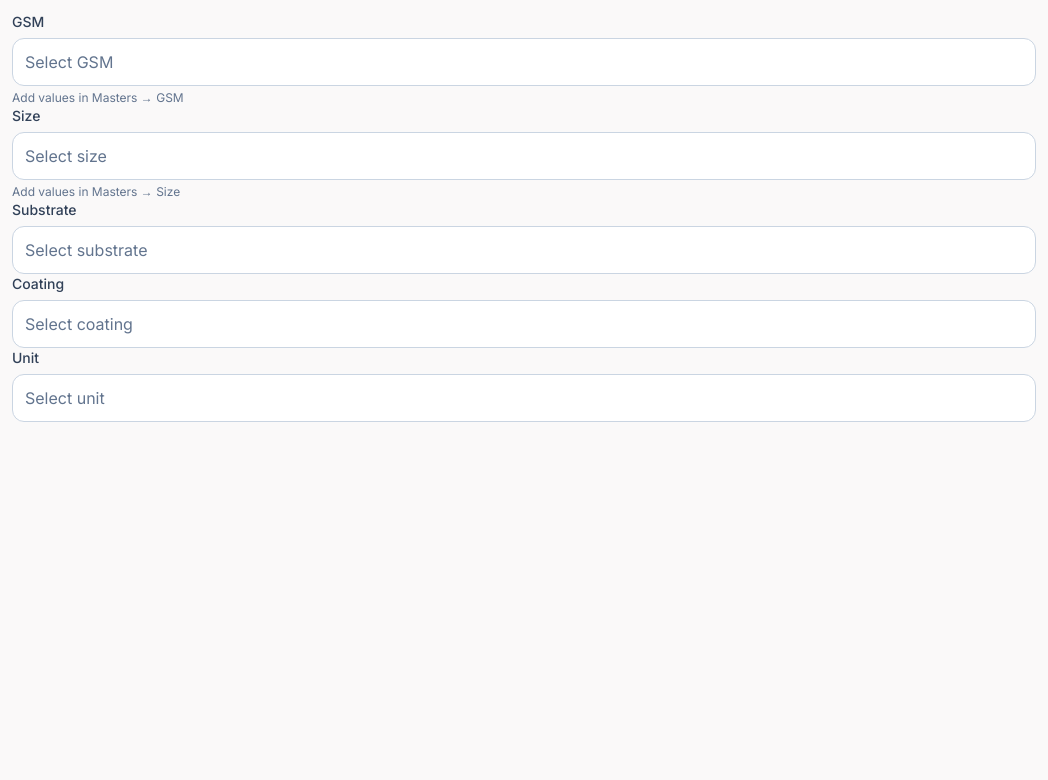
Scenario: R3-MST B32 GSM / Size / Unit are dropdowns › with no master options the unit dropdown offers the 4 legacy units
Focus the dropdown labelled "Unit". click: [524, 398]
box: [12,374,1036,422]
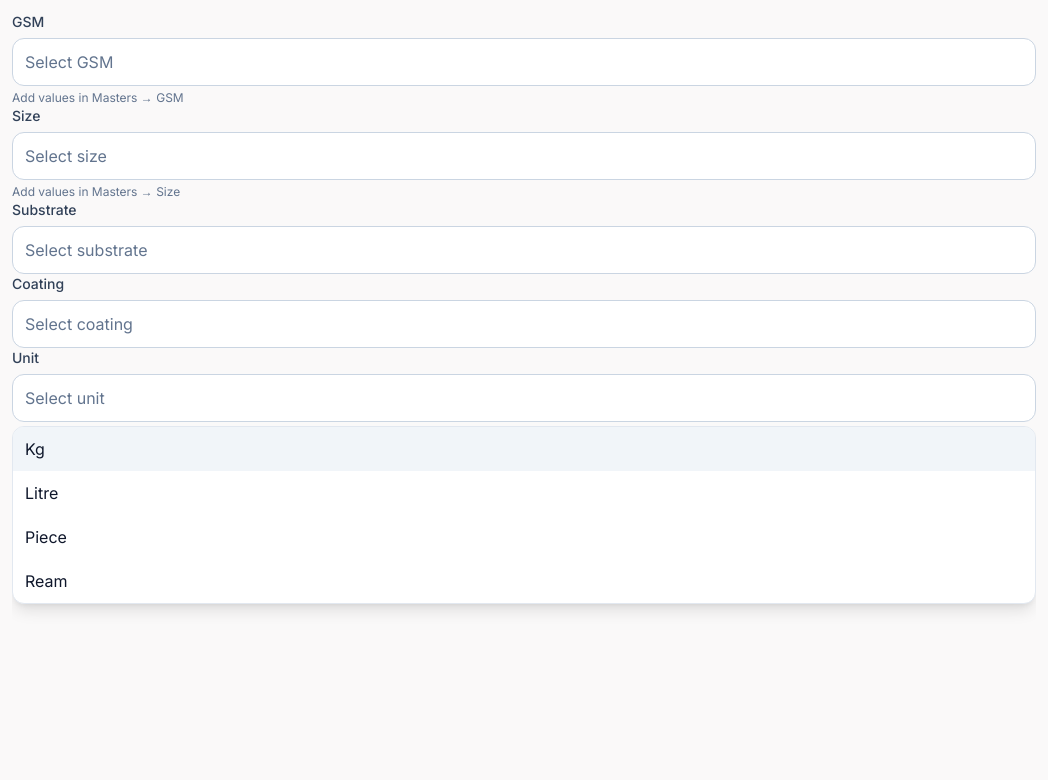
Expected: the options read "Kg", "Litre", "Piece", "Ream", in this order, [13,427,1035,471]; [25,483,58,503]; [25,527,67,547]; [25,571,68,591]
